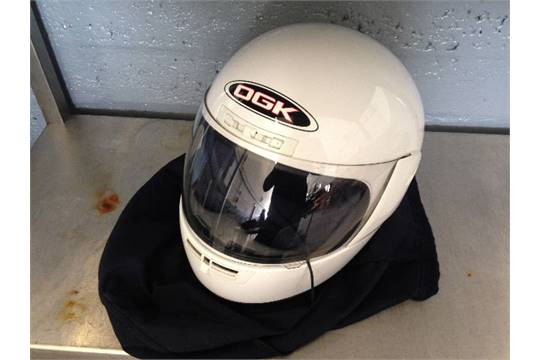with_helmet: (174, 14, 431, 308)
